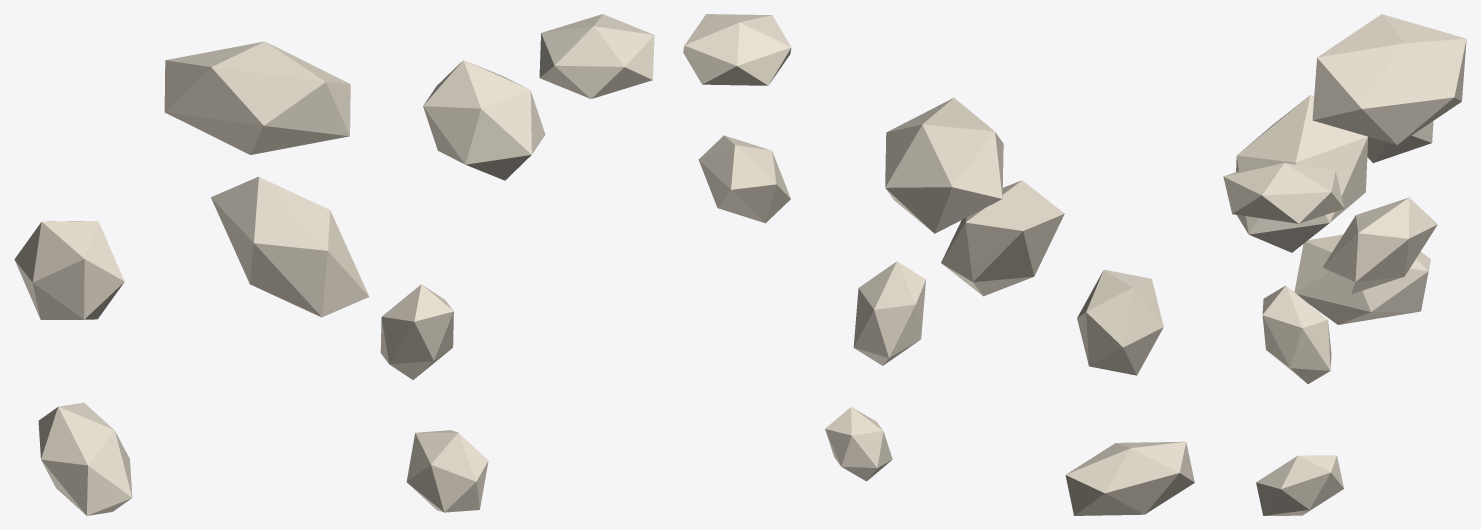
The model's file is bonemeal_pile.obj.
3 renders of one model, left to right at view 1: azimuth 30°, elevation 25°; view 2: azimuth 150°, elevation 25°; view 3: azimuth 270°, elevation 25°, orthographic. The views are drawn at different scales.
Parts seen in each view (by area): view 1: bonemeal_pile; view 2: bonemeal_pile; view 3: bonemeal_pile.
Part boxes in pixels (x1,y1,x2,y2): bonemeal_pile: [14, 14, 654, 515]; bonemeal_pile: [683, 14, 1194, 515]; bonemeal_pile: [1223, 14, 1466, 515].
Bounding box in the file's own units: 0.2676 × 0.2053 × 0.1077.
